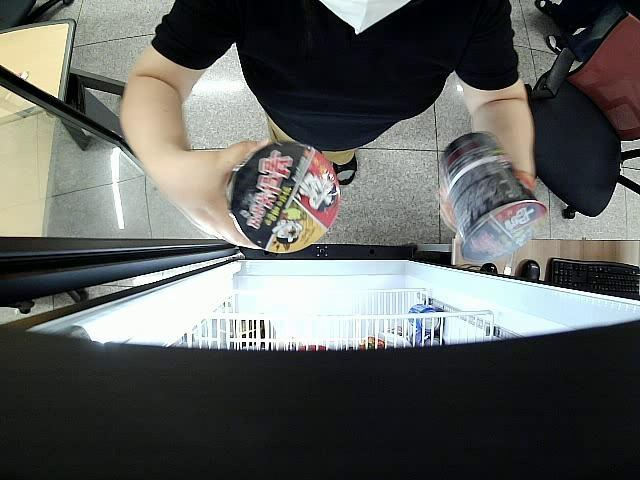08_buldak_S: (436, 130, 546, 266), (232, 142, 340, 252)
